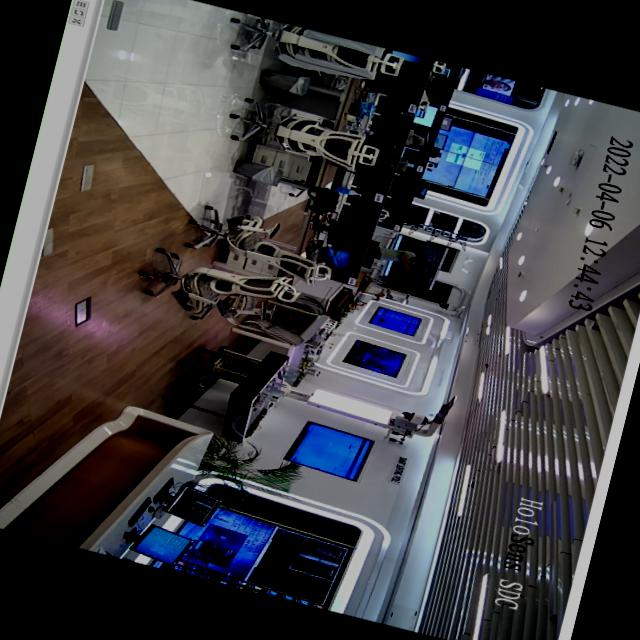long weapon: (391, 258, 423, 290)
